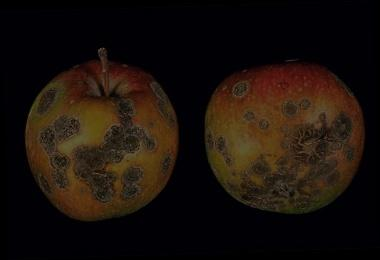rotten apple: (201, 50, 367, 218), (21, 55, 181, 224)
